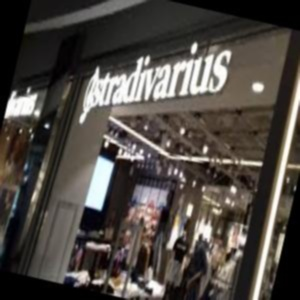stradivarius: (60, 83, 300, 117)
